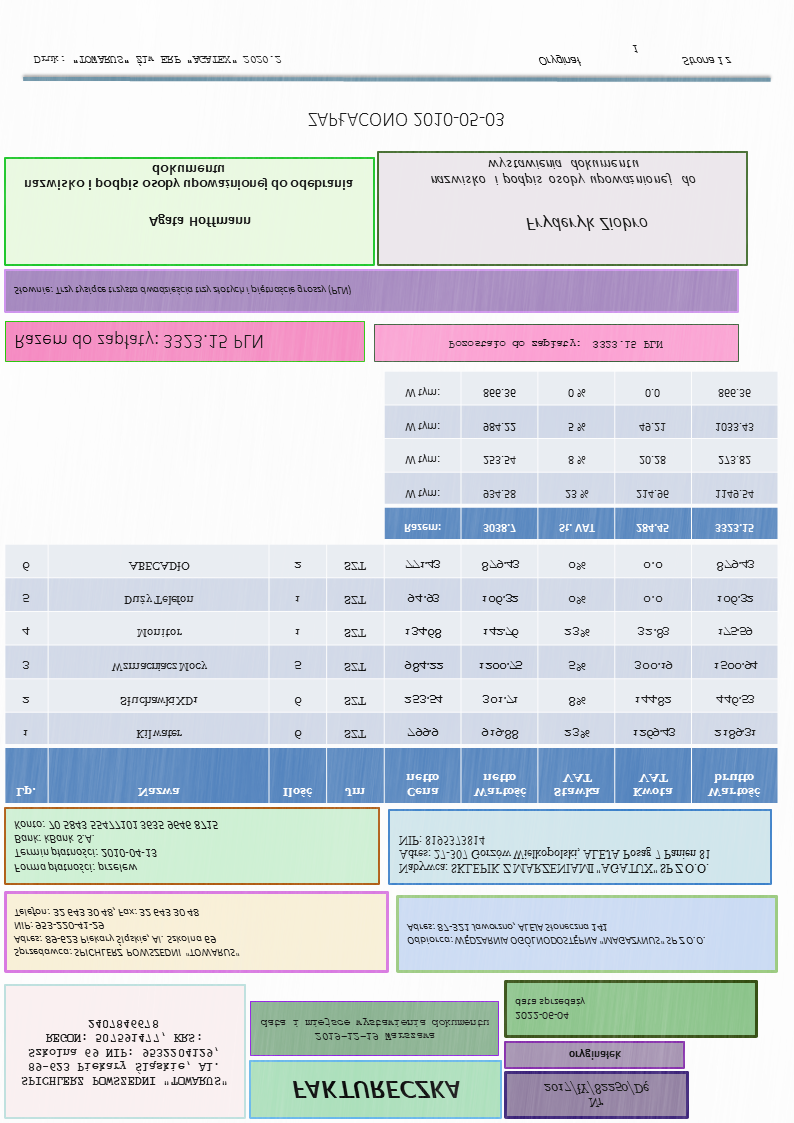Table: (4, 544, 777, 804), (383, 371, 779, 541)
TextBox: (19, 1017, 228, 1088), (397, 833, 714, 877), (11, 905, 243, 959), (11, 817, 220, 876), (23, 163, 354, 194), (403, 921, 708, 949), (429, 157, 697, 188), (257, 1017, 491, 1045), (13, 329, 264, 351), (11, 282, 353, 298), (537, 43, 735, 67), (306, 110, 507, 130), (291, 1078, 461, 1101), (542, 1079, 653, 1110), (447, 336, 664, 351), (32, 53, 282, 66), (523, 212, 650, 235), (513, 995, 587, 1022), (147, 212, 252, 229), (567, 1046, 623, 1063)
